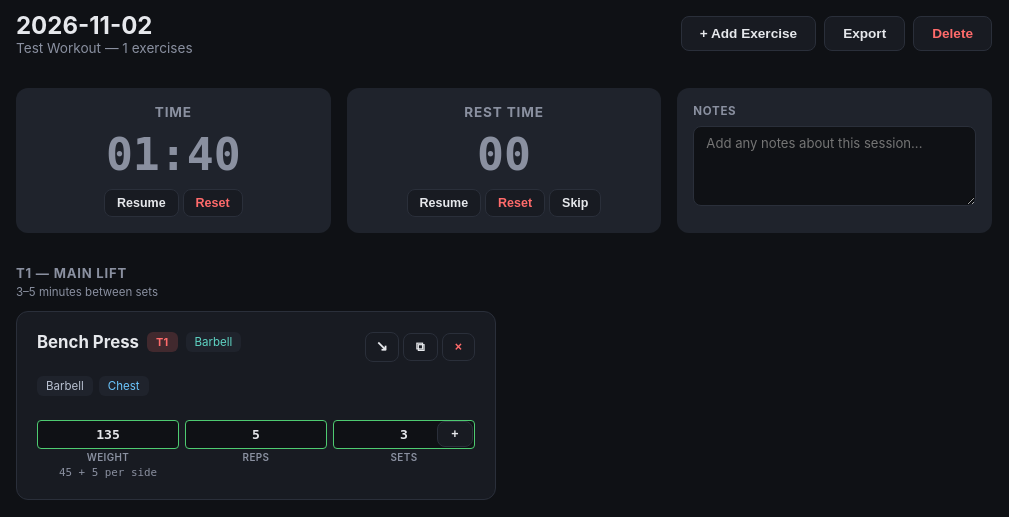
it: session detail — equipment pill › shows a Barbell pill on a copy of a pre-equipment barbell record
Expected: the text "Bench Press" is shown, [37,332,139,352]
Expected: the text with class "equipment" reads "Barbell", [194,335,232,349]
Click the button titled "Duplicate exercise": (420, 347) [403,333,438,361]
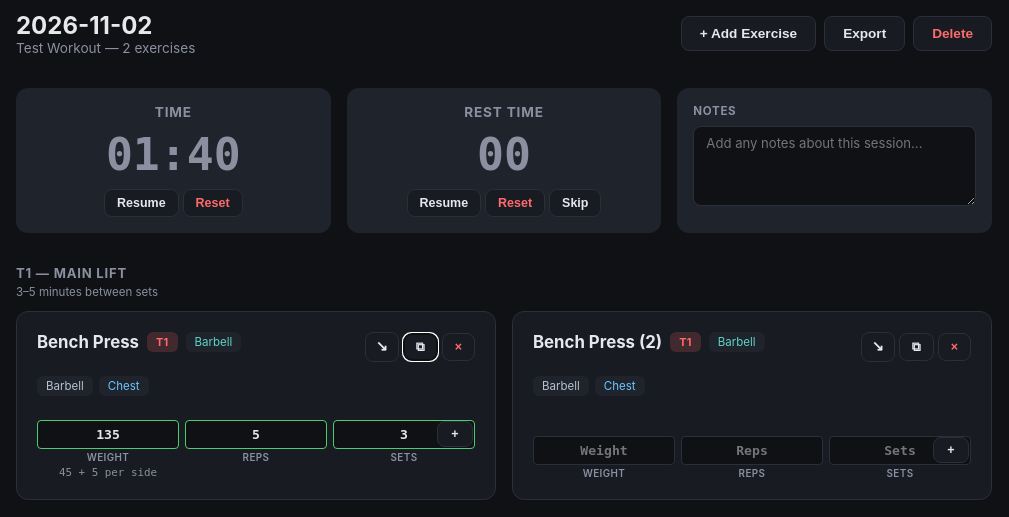
Expected: the text "Bench Press (2)" is shown, [533,332,662,352]
Expected: the text with class "equipment" in the row of "Bench Press (2)" is shown, [709,332,765,352]
Expected: the text with class "equipment" in the row of "Bench Press (2)" reads "Barbell", [718,335,756,349]
